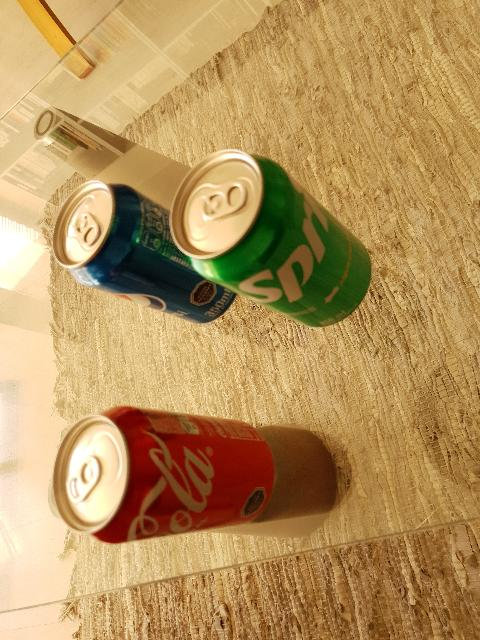coke: (56, 407, 276, 543)
pepsi: (52, 182, 232, 318)
sprite: (170, 143, 368, 327)
